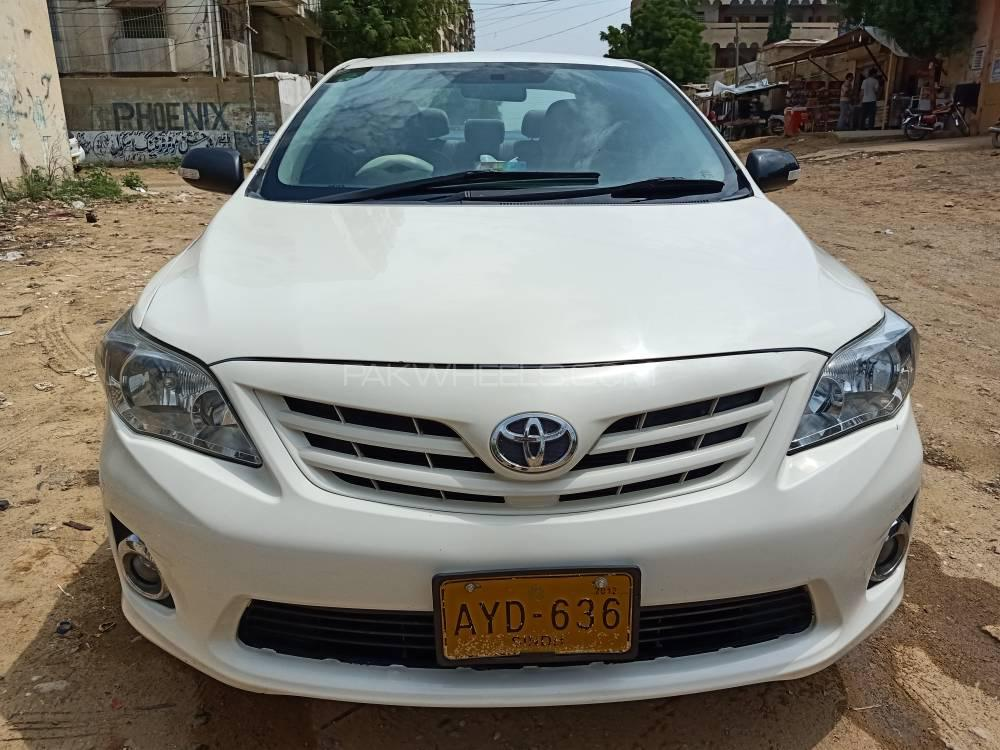license plate: (443, 582, 631, 654)
